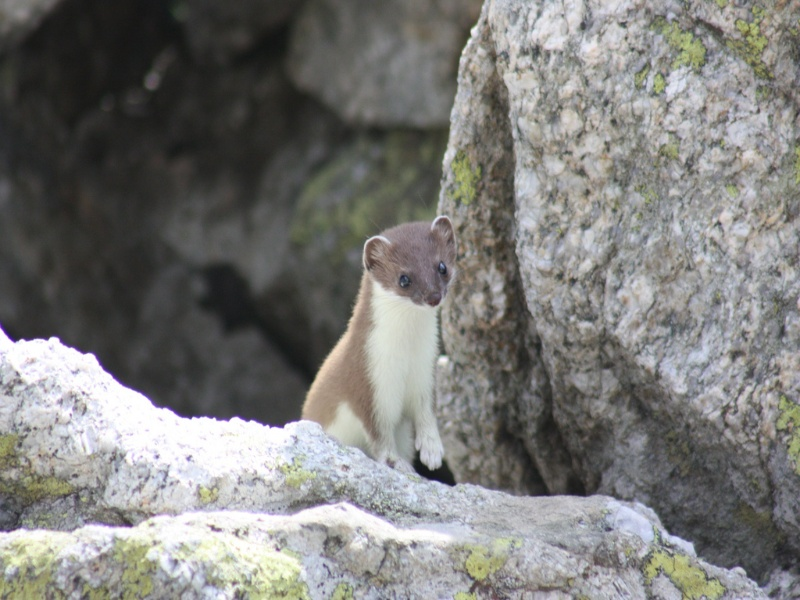minkish: (298, 211, 462, 473)
